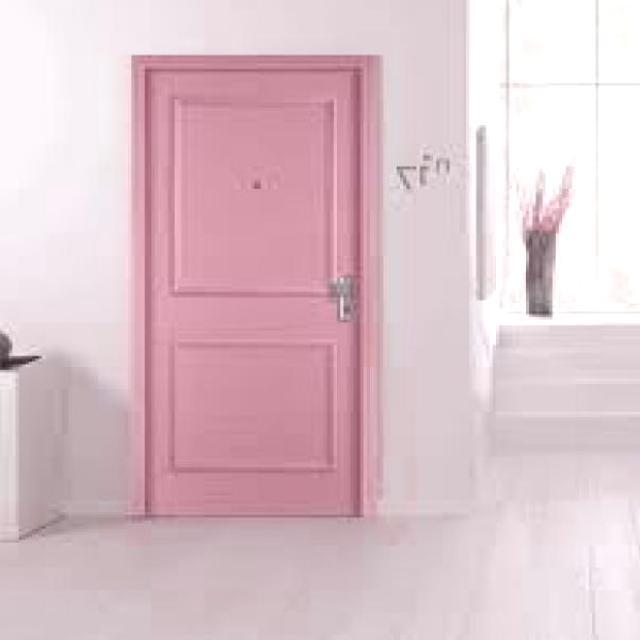door: (135, 55, 372, 518)
